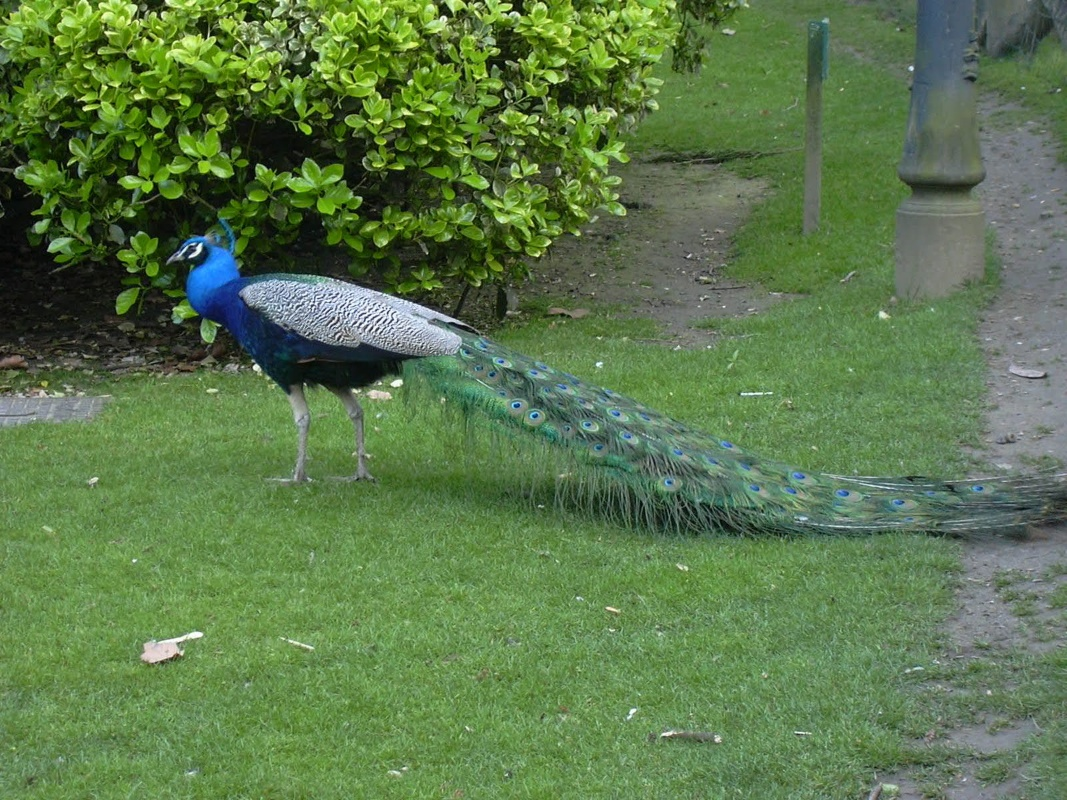pavoreal: (163, 234, 488, 423)
